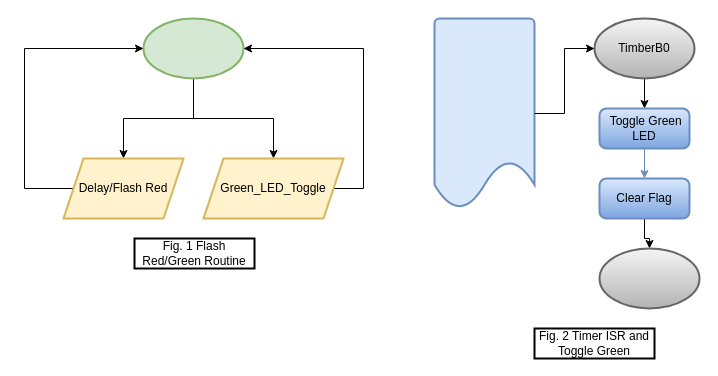
This 718x376 diagram has some shape labels left out. Here are the shapes that lost their labels. From the top down, the centre of each, then its label:
At [193,48]: "Main".
At [484,113]: "Init: P6.6 as Output TimberB0: ACLK MC_UP CCR0=32768 enable CCIFG".
At [649,278]: "Return".
